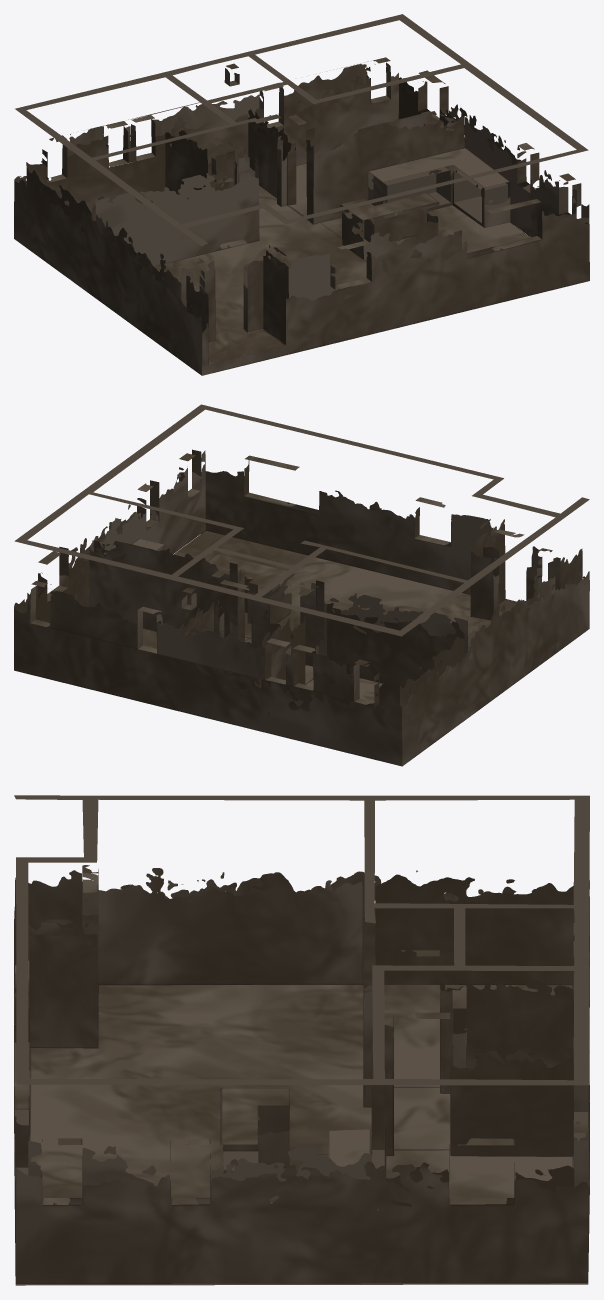
The model's file is walls na linigon 1.fbx.
3 views of the same model, one above another, from view 1: azimuth 30°, elevation 25°; view 2: azimuth 150°, elevation 25°; view 3: azimuth 270°, elevation 25° (orthographic). The views are drawn at different scales.
Visible parts, largest first — view 1: capstone_bahay_dakula1:Mesh78Group41Group40Group9Model; view 2: capstone_bahay_dakula1:Mesh78Group41Group40Group9Model; view 3: capstone_bahay_dakula1:Mesh78Group41Group40Group9Model.
Boxes of the visible parts, x1=… form: capstone_bahay_dakula1:Mesh78Group41Group40Group9Model: x1=14, y1=14, x2=589, y2=375; capstone_bahay_dakula1:Mesh78Group41Group40Group9Model: x1=14, y1=404, x2=589, y2=766; capstone_bahay_dakula1:Mesh78Group41Group40Group9Model: x1=14, y1=795, x2=589, y2=1285.
Size of the model in its own units: 0.1018 by 0.0327 by 0.0851.
Materials: 1 (1 with a texture image).
